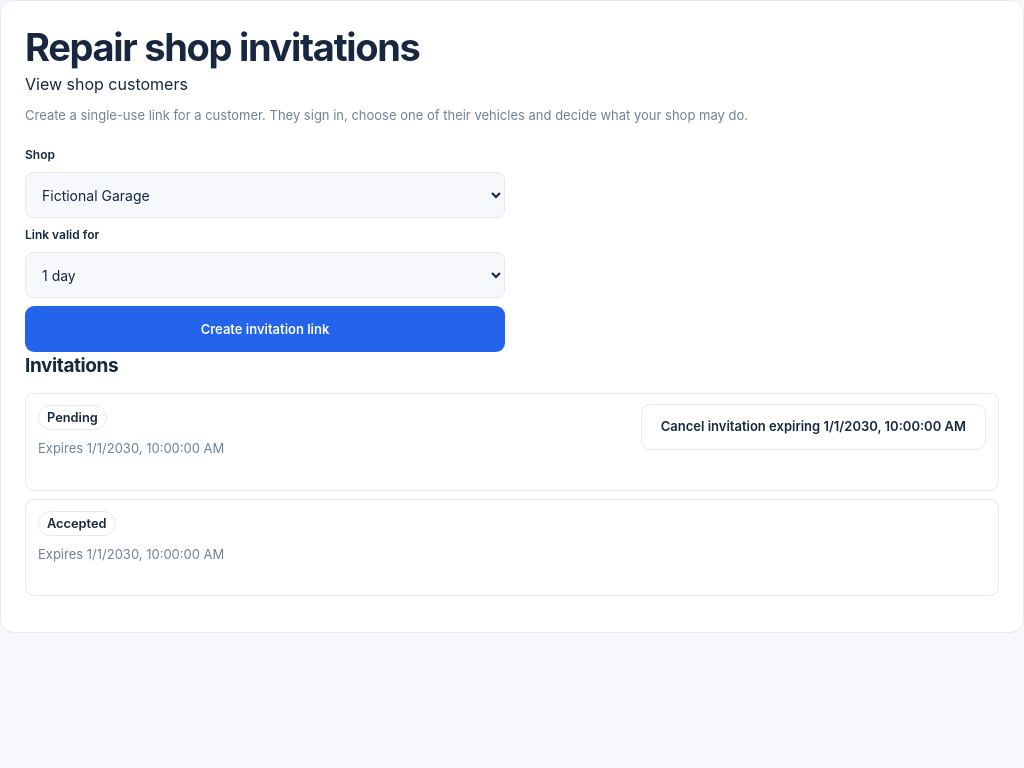
Scenario: shows invitation statuses and cancels only pending links
The width and height of the screenshot is (1024, 768).
Expected: the text "Accepted" is shown, 38,510 -> 116,536
What coordinates should you click on to do the following:
click the button "Cancel invitation expiring 1/1/2030, 10:00:00 AM"
I would click on:
 (813, 427)
Its box is 641,404 -> 986,450.
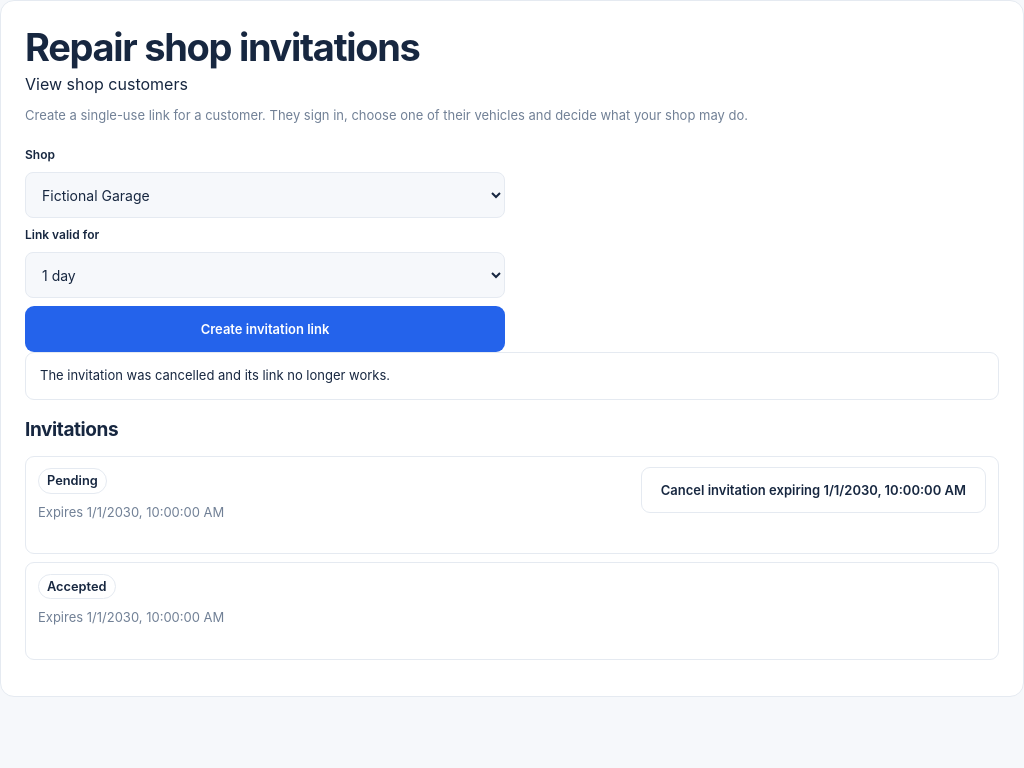
Result: the text "The invitation was cancelled and its link no longer works." is shown at 25,352 -> 999,400
